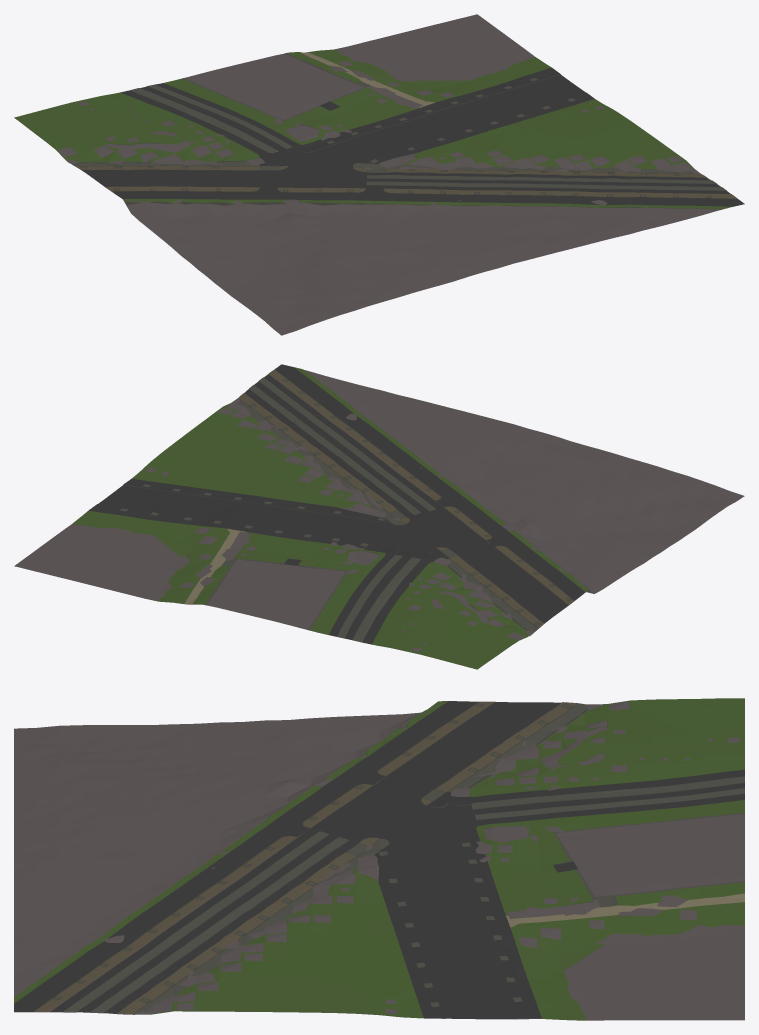
3 renders of one model, top to bottom at view 1: azimuth 30°, elevation 25°; view 2: azimuth 150°, elevation 25°; view 3: azimuth 270°, elevation 25°, orthographic. The views are drawn at different scales.
Visible parts, largest first — view 1: c_m16_m02; view 2: c_m16_m02; view 3: c_m16_m02.
Part boxes in pixels (x1,y1,x2,y2): c_m16_m02: [14, 14, 744, 335]; c_m16_m02: [14, 364, 744, 669]; c_m16_m02: [14, 698, 744, 1020].
Bounding box in the file's own units: 128 × 6.32 × 128.
